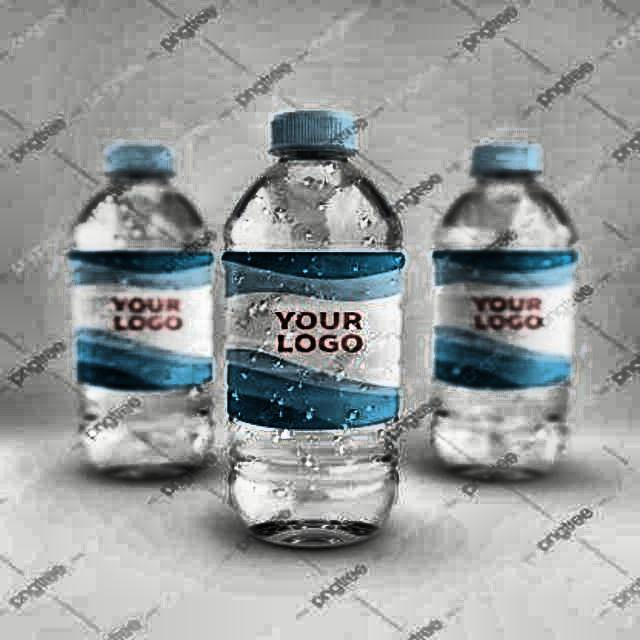Bottles: (217, 111, 408, 554)
